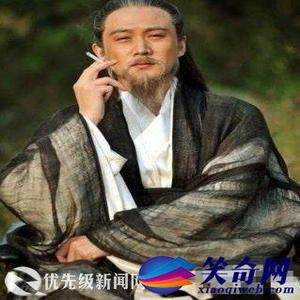cigarette: (85, 51, 108, 66)
